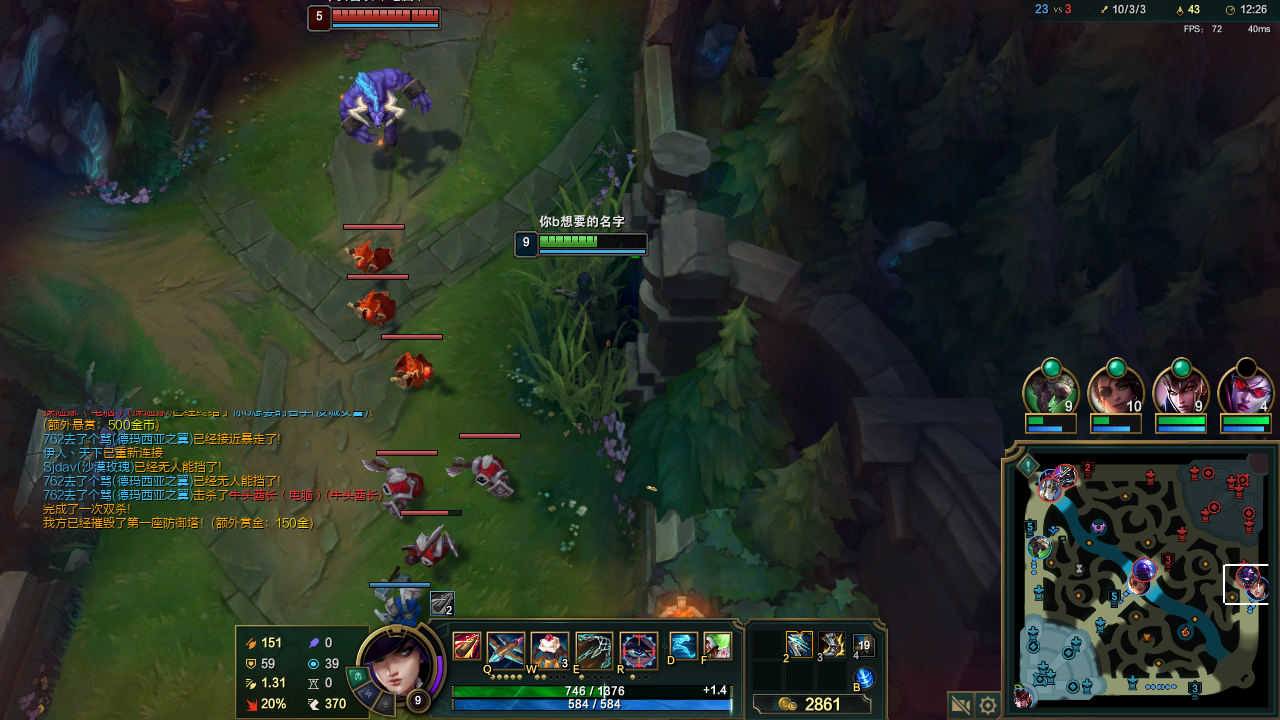DFXB: (457, 454, 509, 501), (383, 466, 427, 511), (410, 525, 455, 567), (345, 239, 403, 271), (353, 287, 397, 323), (392, 356, 436, 385)
DFYX: (330, 7, 436, 24)
WFXB: (375, 587, 422, 616)
